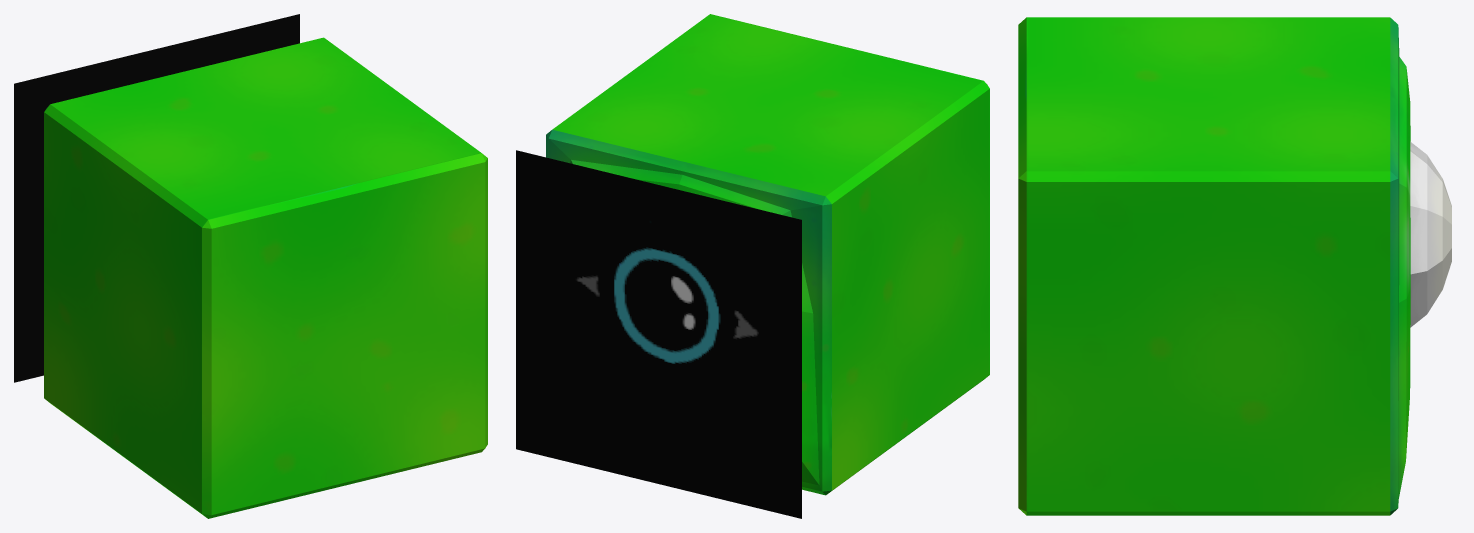
Rendered from Block Assets Cyclops.fbx.
3 views of the same model, side by side, from view 1: azimuth 30°, elevation 25°; view 2: azimuth 150°, elevation 25°; view 3: azimuth 270°, elevation 25° (orthographic). The views are drawn at different scales.
Visible parts, largest first — view 1: Block Cyclops, Cyclops Plane; view 2: Block Cyclops, Cyclops Plane; view 3: Block Cyclops.
Part boxes in pixels (x1=…): Block Cyclops: x1=44, y1=37, x2=487, y2=518; Cyclops Plane: x1=14, y1=14, x2=299, y2=382; Block Cyclops: x1=546, y1=14, x2=989, y2=495; Cyclops Plane: x1=516, y1=150, x2=801, y2=518; Block Cyclops: x1=1018, y1=17, x2=1451, y2=515.
Bounding box in the file's own units: 1 × 1 × 1.16.
